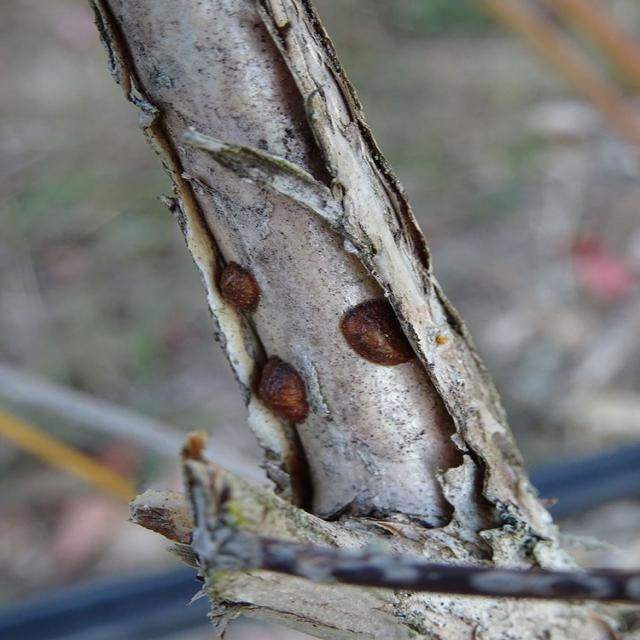Black Scale: (339, 298, 416, 367), (257, 355, 328, 424), (215, 262, 260, 318)
